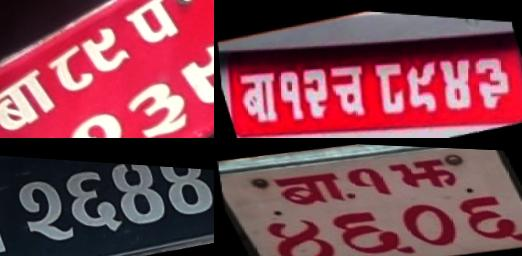0: (391, 196, 470, 253)
1: (340, 161, 397, 202), (271, 66, 307, 121)
2: (7, 165, 79, 253), (60, 100, 143, 138), (294, 63, 334, 120)
3: (115, 66, 197, 138), (466, 47, 513, 106)
4: (100, 157, 173, 233), (149, 159, 214, 220), (254, 211, 342, 256), (432, 49, 479, 111)
6: (53, 155, 130, 244), (321, 201, 416, 256), (443, 186, 522, 249)
8: (41, 39, 97, 101), (366, 54, 409, 113)
9: (166, 29, 214, 115), (74, 17, 138, 79), (398, 52, 445, 112)
ba: (0, 61, 59, 138), (266, 166, 355, 213), (230, 64, 284, 128)
cha: (321, 55, 373, 119)
jha: (382, 151, 466, 195)
pa: (116, 0, 195, 57)
